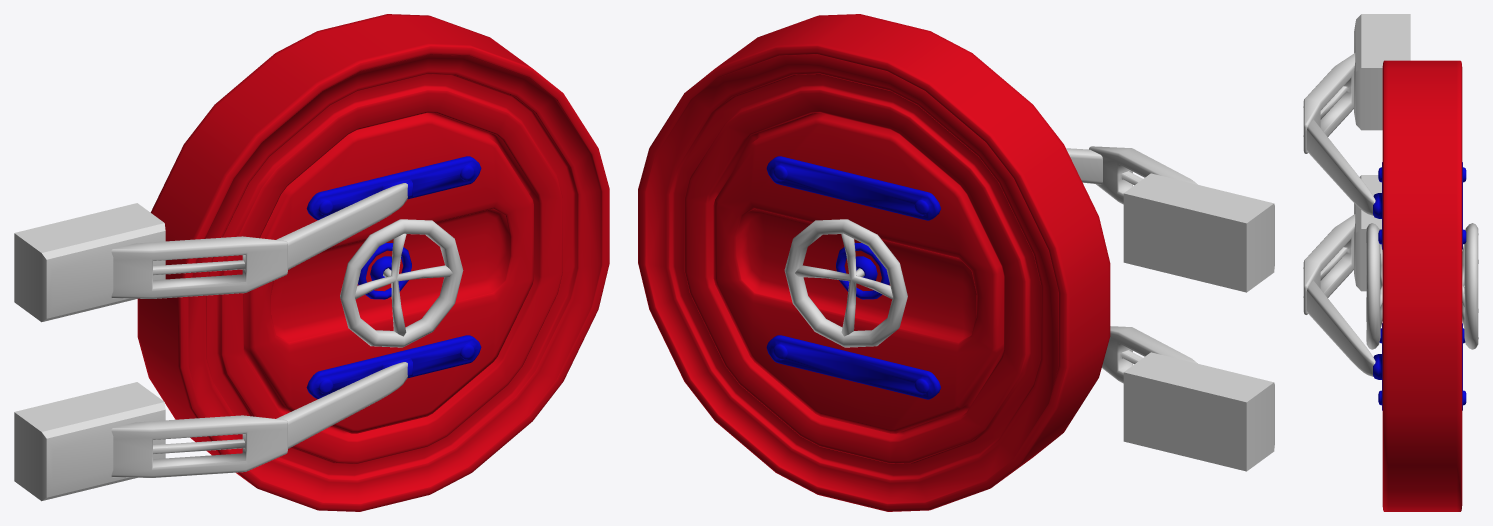
The model's file is SM_blastdoor.fbx.
3 views of the same model, side by side, from view 1: azimuth 30°, elevation 25°; view 2: azimuth 150°, elevation 25°; view 3: azimuth 270°, elevation 25° (orthographic). The views are drawn at different scales.
Visible parts, largest first — view 1: door, hinge, support, handle; view 2: door, support, handle, hinge; view 3: door, hinge, support, handle.
Part boxes in pixels (x1,y1,x2,y2): door: (137,14,609,511); hinge: (111,183,407,477); support: (14,203,165,501); handle: (340,219,463,347); door: (638,14,1110,511); support: (1123,173,1274,471); handle: (784,219,907,347); hinge: (1066,146,1197,383); door: (1373,60,1466,511); hinge: (1303,53,1375,376); support: (1354,14,1410,291); handle: (1366,223,1478,349).
Size of the model in its own units: 7.7 by 5.7 by 2.23.
